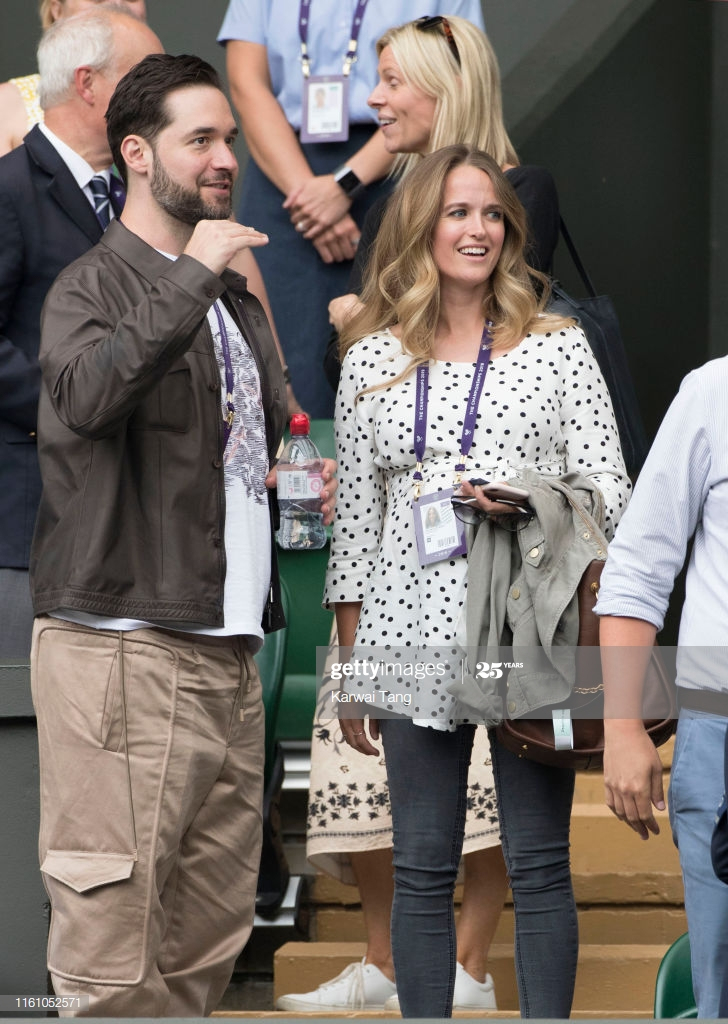Person: (30, 56, 339, 1019), (343, 146, 607, 1022), (331, 16, 520, 155)
